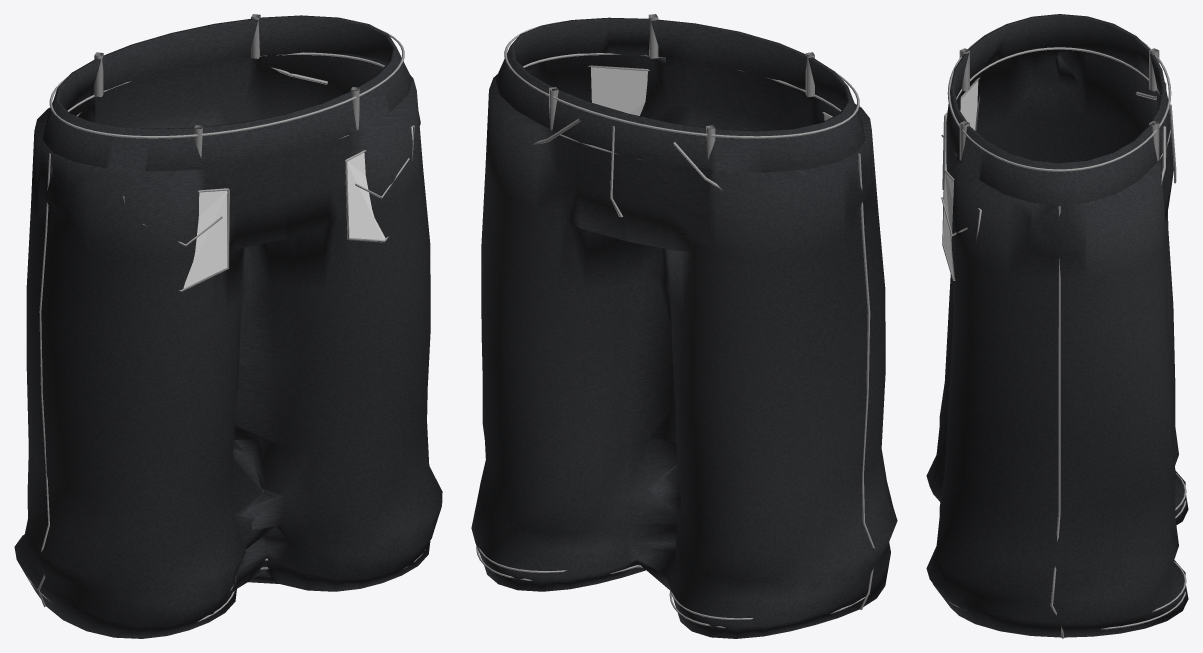
Rendered from AH_BOTTOM_01.fbx.
The picture shows the model from 3 angles, left to right: view 1: azimuth 30°, elevation 25°; view 2: azimuth 150°, elevation 25°; view 3: azimuth 270°, elevation 25°; orthographic projection. The views are drawn at different scales.
Visible parts, largest first — view 1: Corpo da jeans.001, Bolso traseiro -1.001, Bolso traseiro 1.001, Pesponto do cós.003, Costura lateral -1.001; view 2: Corpo da jeans.001, Bolso traseiro 1.001, Pesponto do cós.003, Costura lateral -1.001, Pesponto do cós.002; view 3: Corpo da jeans.001, Pesponto do cós.003, Costura lateral 1.001, Bolso traseiro 1.001, Bolso traseiro -1.001, Pesponto do cós.002.
Boxes of the visible parts, box(x1,y1,x2,y2) form: Corpo da jeans.001: box(14, 15, 442, 638); Bolso traseiro -1.001: box(183, 190, 227, 288); Bolso traseiro 1.001: box(346, 127, 412, 239); Pesponto do cós.003: box(49, 29, 404, 138); Costura lateral -1.001: box(37, 153, 50, 606); Corpo da jeans.001: box(471, 17, 897, 638); Bolso traseiro 1.001: box(591, 67, 647, 115); Pesponto do cós.003: box(504, 21, 859, 138); Costura lateral -1.001: box(858, 153, 874, 609); Pesponto do cós.002: box(523, 53, 841, 159); Corpo da jeans.001: box(926, 14, 1188, 637); Pesponto do cós.003: box(947, 26, 1171, 171); Costura lateral 1.001: box(1050, 206, 1064, 638); Bolso traseiro 1.001: box(943, 172, 954, 278); Bolso traseiro -1.001: box(945, 81, 978, 170); Pesponto do cós.002: box(955, 47, 1170, 158).
Bounding box in the file's own units: 97.22 × 121 × 60.95.
Materials: 3 (1 with a texture image).
